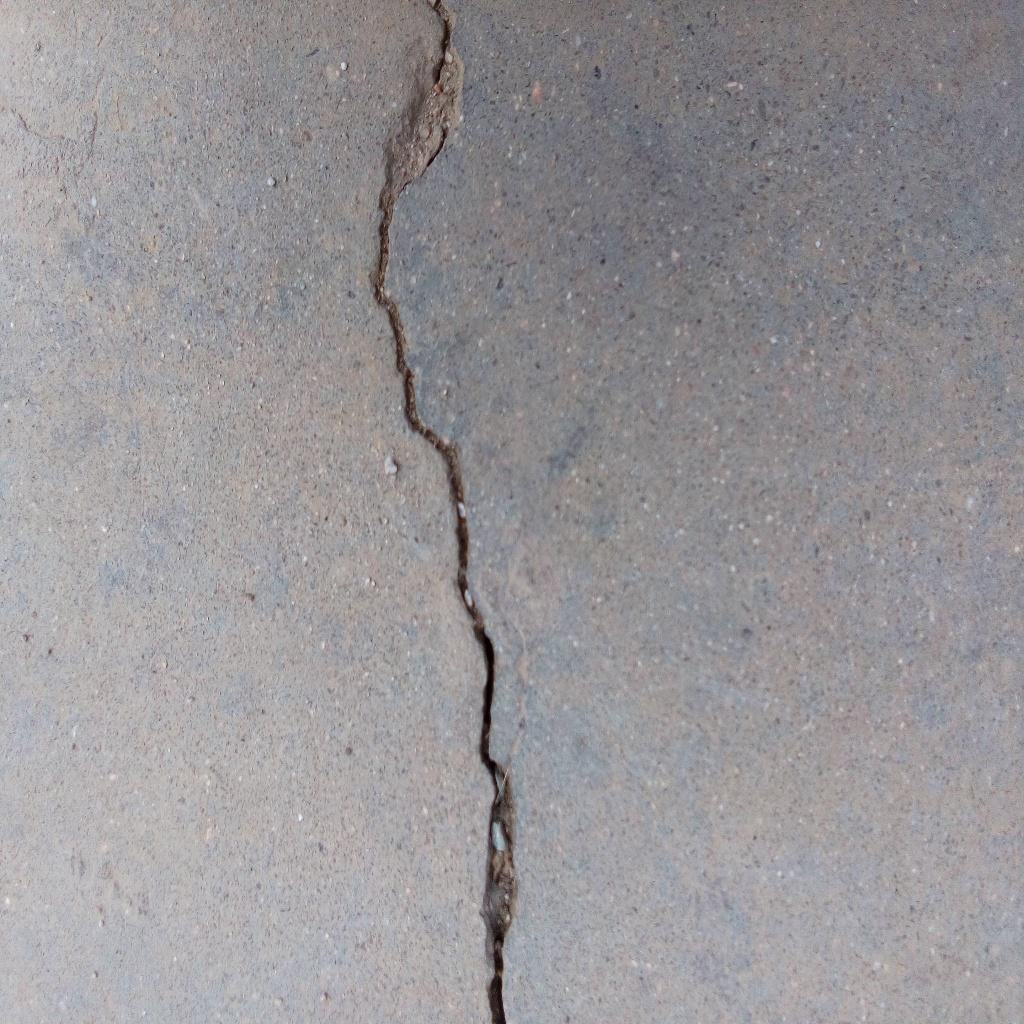Crack: (368, 1, 516, 1024)
